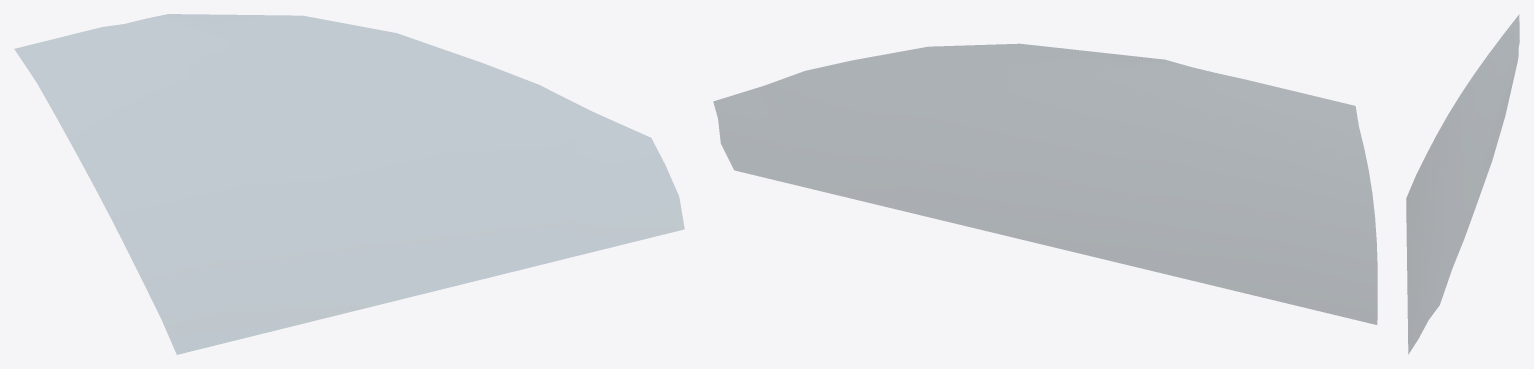
3 views of the same model, side by side, from view 1: azimuth 30°, elevation 25°; view 2: azimuth 150°, elevation 25°; view 3: azimuth 270°, elevation 25° (orthographic). The views are drawn at different scales.
Parts seen in each view (by area): view 1: SM_FordCrown02_Door_FR_Glass_Int2; view 2: SM_FordCrown02_Door_FR_Glass_Int2; view 3: SM_FordCrown02_Door_FR_Glass_Int2.
Part boxes in pixels (left/top/right/bottom): SM_FordCrown02_Door_FR_Glass_Int2: left=14, top=14, right=684, bottom=354; SM_FordCrown02_Door_FR_Glass_Int2: left=713, top=44, right=1377, bottom=324; SM_FordCrown02_Door_FR_Glass_Int2: left=1406, top=15, right=1519, bottom=353.
Bounding box in the file's own units: 0.8483 × 0.3576 × 0.227.
